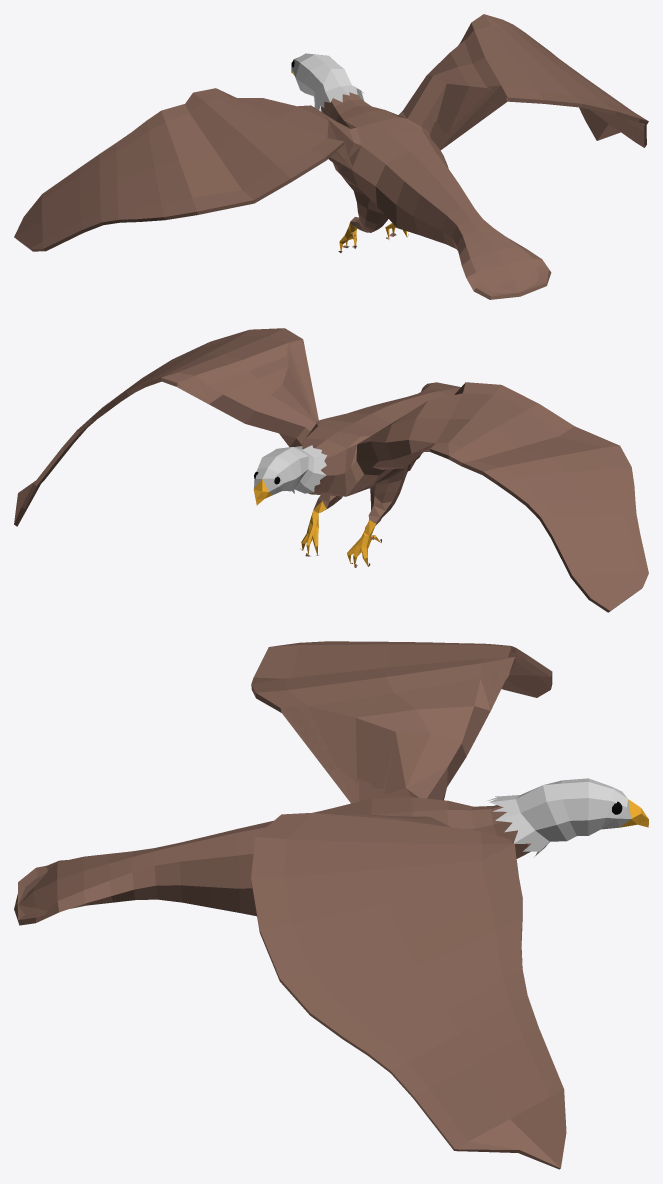
The model's file is Eagle 1.fbx.
3 renders of one model, top to bottom at view 1: azimuth 30°, elevation 25°; view 2: azimuth 150°, elevation 25°; view 3: azimuth 270°, elevation 25°, orthographic. The views are drawn at different scales.
Visible parts, largest first — view 1: Body, Head; view 2: Body, Head, ClawsAndBeak; view 3: Body, Head.
Part boxes in pixels (left/top/right/bottom): Body: left=14, top=14, right=648, bottom=299; Head: left=291, top=53, right=363, bottom=111; Body: left=14, top=328, right=648, bottom=612; Head: left=254, top=445, right=327, bottom=494; ClawsAndBeak: left=253, top=479, right=380, bottom=566; Body: left=14, top=641, right=566, bottom=1169; Head: left=486, top=778, right=630, bottom=856.
Size of the model in its own units: 578 by 156 by 372.
